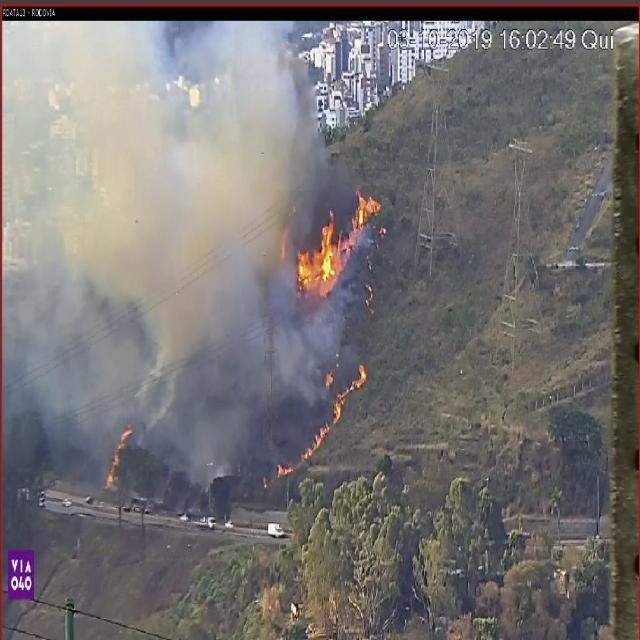Fire: (276, 356, 369, 483), (298, 186, 382, 295), (105, 424, 133, 489), (280, 227, 288, 260)
Smoke: (3, 8, 274, 416)
